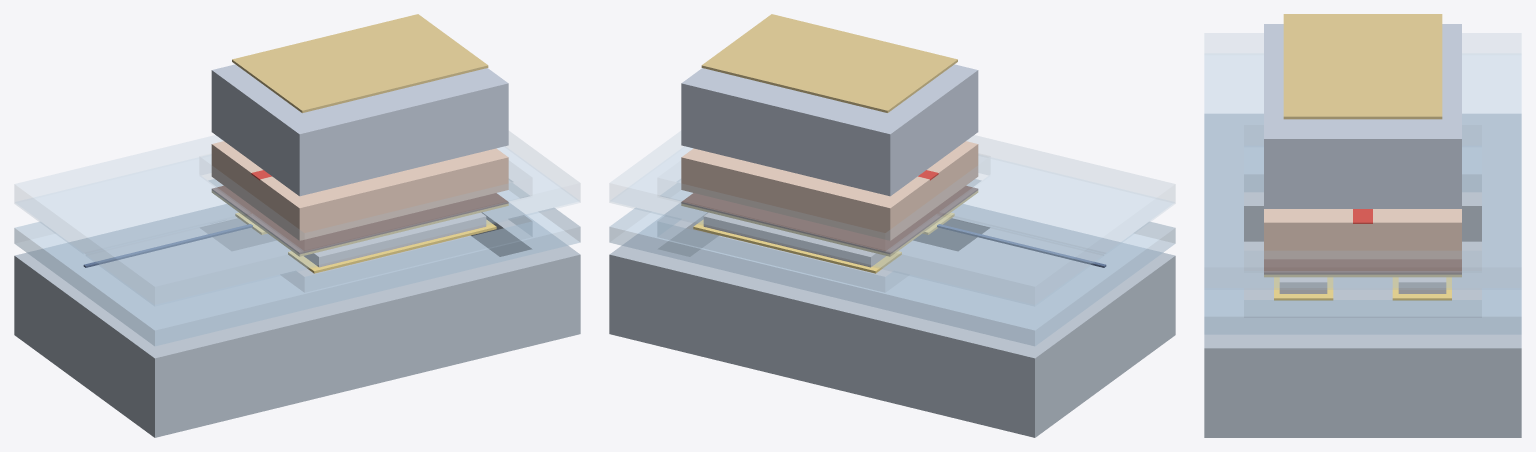
The model's file is stack-flipchip-x.glb.
3 views of the same model, side by side, from view 1: azimuth 30°, elevation 25°; view 2: azimuth 150°, elevation 25°; view 3: azimuth 270°, elevation 25° (orthographic). The views are drawn at different scales.
Visible parts, largest first — view 1: sisub, cladd, inp, box, nmetal, pinp, cap, solder, bondpad, pmetal, siwg; view 2: sisub, cladd, inp, box, nmetal, pinp, cap, solder, bondpad, pmetal, siwg; view 3: sisub, cladd, inp, nmetal, box, pinp, cap, solder, bondpad, pmetal.
Part boxes in pixels (x1,y1,x2,y2): sisub: (14, 202, 580, 437); cladd: (14, 131, 580, 305); inp: (211, 64, 508, 196); box: (14, 179, 580, 346); nmetal: (232, 14, 488, 112); pinp: (211, 141, 508, 240); cap: (211, 185, 508, 254); solder: (304, 212, 486, 267); bondpad: (235, 212, 496, 273); pmetal: (211, 191, 508, 256); siwg: (83, 224, 252, 267); sisub: (609, 202, 1175, 437); cladd: (609, 131, 1175, 305); inp: (681, 64, 978, 196); box: (609, 179, 1175, 346); nmetal: (701, 14, 957, 112); pinp: (681, 141, 978, 240); cap: (681, 185, 978, 254); solder: (703, 212, 885, 267); bondpad: (693, 212, 954, 273); pmetal: (681, 191, 978, 256); siwg: (937, 224, 1106, 267); sisub: (1204, 113, 1521, 437); cladd: (1204, 33, 1521, 289); inp: (1264, 24, 1461, 208); nmetal: (1283, 14, 1442, 119); box: (1204, 146, 1521, 334); pinp: (1264, 209, 1461, 259); cap: (1264, 259, 1461, 274); solder: (1279, 277, 1446, 293); bondpad: (1274, 277, 1451, 300); pmetal: (1264, 274, 1461, 277).
Bounding box in the file's own units: 56 × 32.3 × 32.
